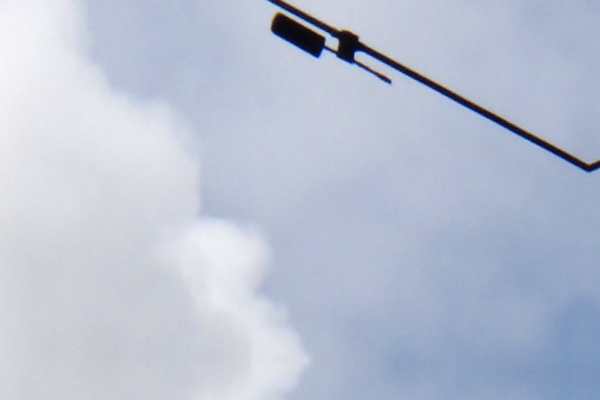damper_defect: (266, 11, 397, 89)
